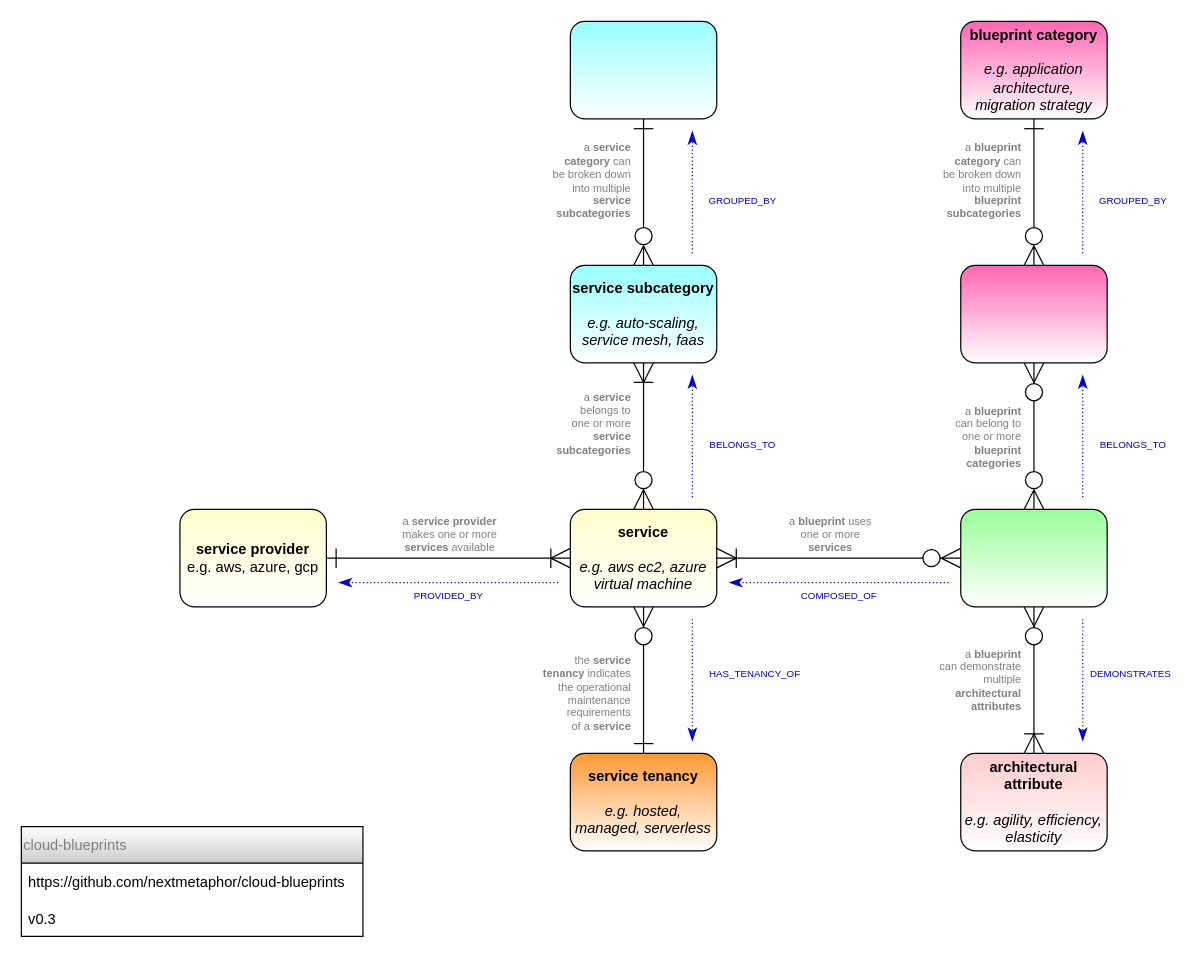
The diagram is 1191 pixels wide and 958 high, and some of its shapes have lost their labels. The shapes that lost their labels are listed below. From the top down, each one's centre as x and y in pixels, then its label:
(643,69): service category e.g. compute, database, storage
(1033,313): blueprint subcategory e.g. on-premise, hybrid, public-cloud
(1033,557): blueprint e.g. aws serverless api, azure static website
